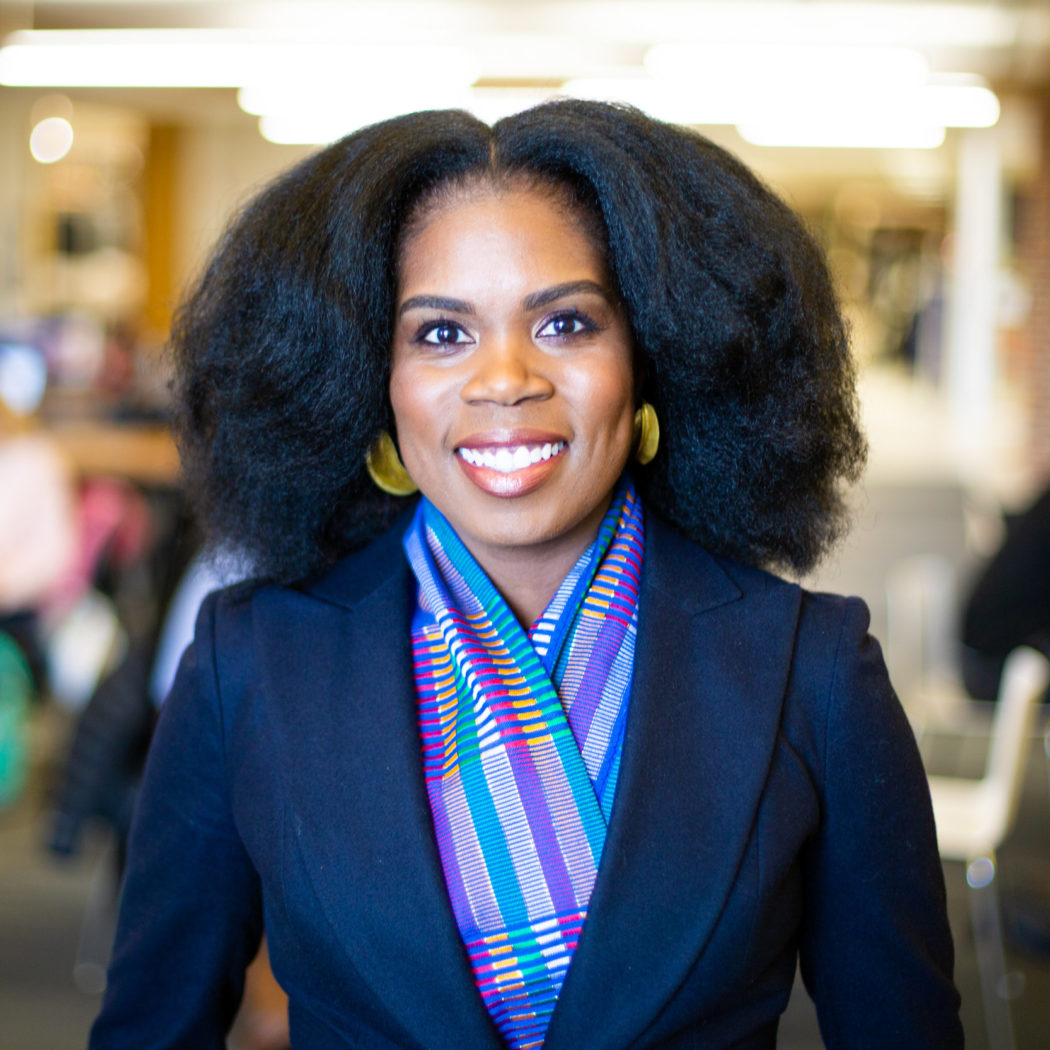person: (84, 99, 973, 1050)
